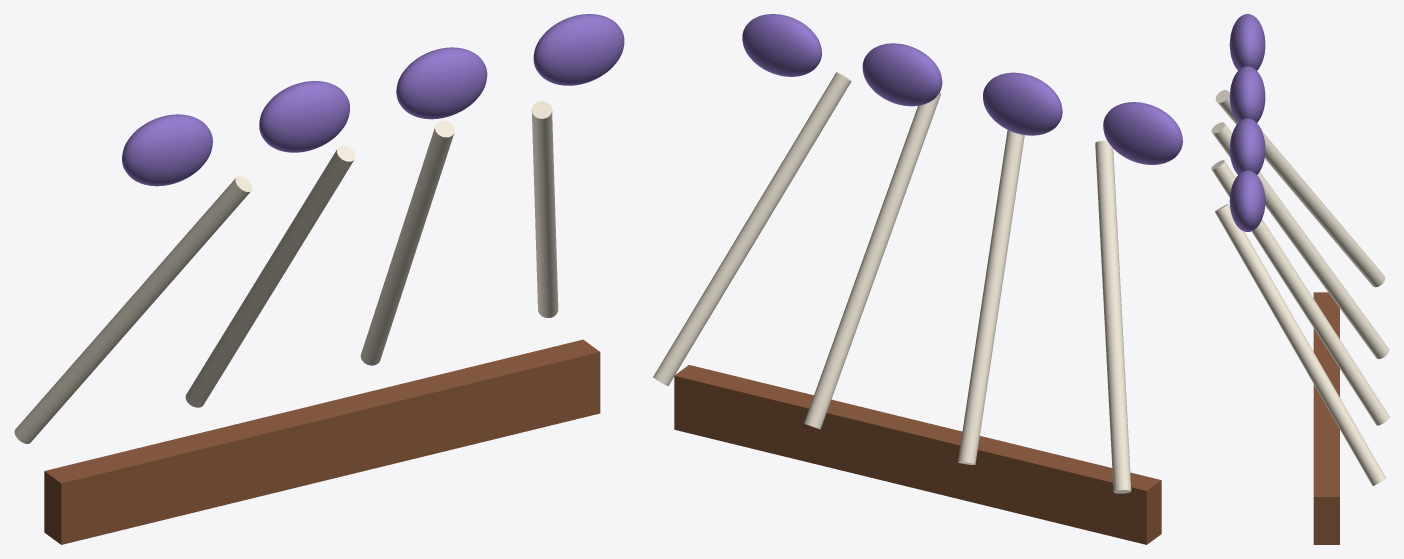
File: bio-p1-fungus.glb
3 renders of one model, left to right at view 1: azimuth 30°, elevation 25°; view 2: azimuth 150°, elevation 25°; view 3: azimuth 270°, elevation 25°, orthographic. The views are drawn at different scales.
Visible parts, largest first — view 1: decomposing-food-base, hypha-thread-0, hypha-thread-1, hypha-thread-2, spore-cap-3, spore-cap-2, spore-cap-0, spore-cap-1, hypha-thread-3; view 2: decomposing-food-base, hypha-thread-3, hypha-thread-0, hypha-thread-2, hypha-thread-1, spore-cap-2, spore-cap-1, spore-cap-3, spore-cap-0; view 3: hypha-thread-3, decomposing-food-base, hypha-thread-2, hypha-thread-1, hypha-thread-0, spore-cap-3, spore-cap-0, spore-cap-2, spore-cap-1.
Boxes of the visible parts, bbox=[...] form: decomposing-food-base: bbox=[44, 339, 600, 544]; hypha-thread-0: bbox=[14, 176, 252, 443]; hypha-thread-1: bbox=[185, 145, 355, 407]; hypha-thread-2: bbox=[360, 120, 454, 365]; spore-cap-3: bbox=[533, 14, 624, 85]; spore-cap-2: bbox=[396, 47, 487, 119]; spore-cap-0: bbox=[122, 114, 212, 186]; spore-cap-1: bbox=[259, 81, 349, 152]; hypha-thread-3: bbox=[531, 101, 558, 317]; decomposing-food-base: bbox=[674, 365, 1161, 544]; hypha-thread-3: bbox=[653, 72, 851, 385]; hypha-thread-0: bbox=[1095, 140, 1131, 493]; hypha-thread-2: bbox=[804, 92, 941, 429]; hypha-thread-1: bbox=[958, 130, 1024, 464]; spore-cap-2: bbox=[862, 43, 942, 106]; spore-cap-1: bbox=[983, 72, 1062, 135]; spore-cap-3: bbox=[742, 14, 821, 76]; spore-cap-0: bbox=[1103, 102, 1182, 164]; hypha-thread-3: bbox=[1215, 204, 1386, 485]; decomposing-food-base: bbox=[1313, 292, 1339, 544]; hypha-thread-2: bbox=[1211, 160, 1389, 425]; hypha-thread-1: bbox=[1211, 122, 1389, 358]; hypha-thread-0: bbox=[1215, 90, 1385, 287]; spore-cap-3: bbox=[1229, 170, 1265, 231]; spore-cap-0: bbox=[1229, 14, 1265, 70]; spore-cap-2: bbox=[1229, 118, 1265, 174]; spore-cap-1: bbox=[1229, 66, 1265, 122].
Size of what is drawn, in the model's own units: 1.11 by 0.8648 by 0.4055.
